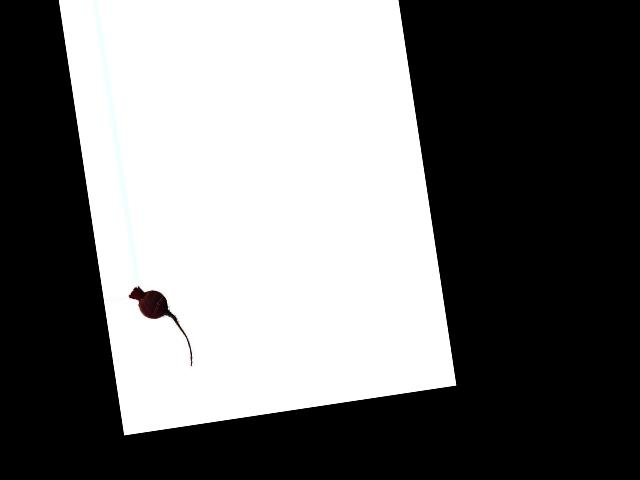beet: (127, 280, 194, 374)
